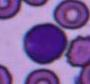L: (23, 23, 66, 64)
